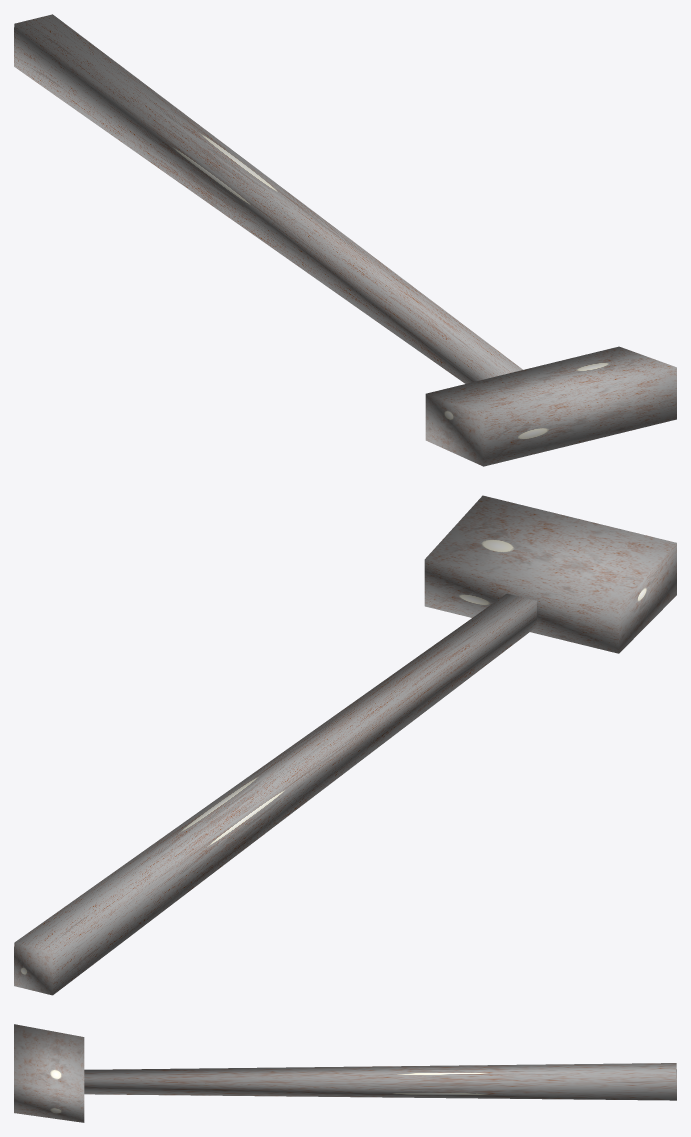
File: aws_Light_01_collision.obj
3 views of the same model, one above another, from view 1: azimuth 30°, elevation 25°; view 2: azimuth 150°, elevation 25°; view 3: azimuth 270°, elevation 25° (orthographic). The views are drawn at different scales.
Bounding box in the file's own units: 309 × 107 × 1507.
